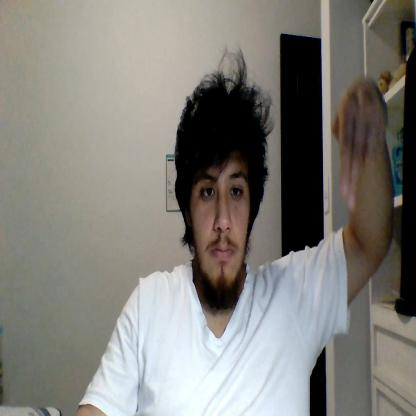N: (330, 76, 388, 212)
